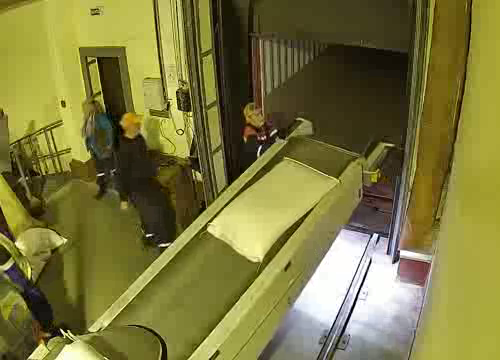bag: (197, 146, 350, 270), (40, 334, 117, 360)
